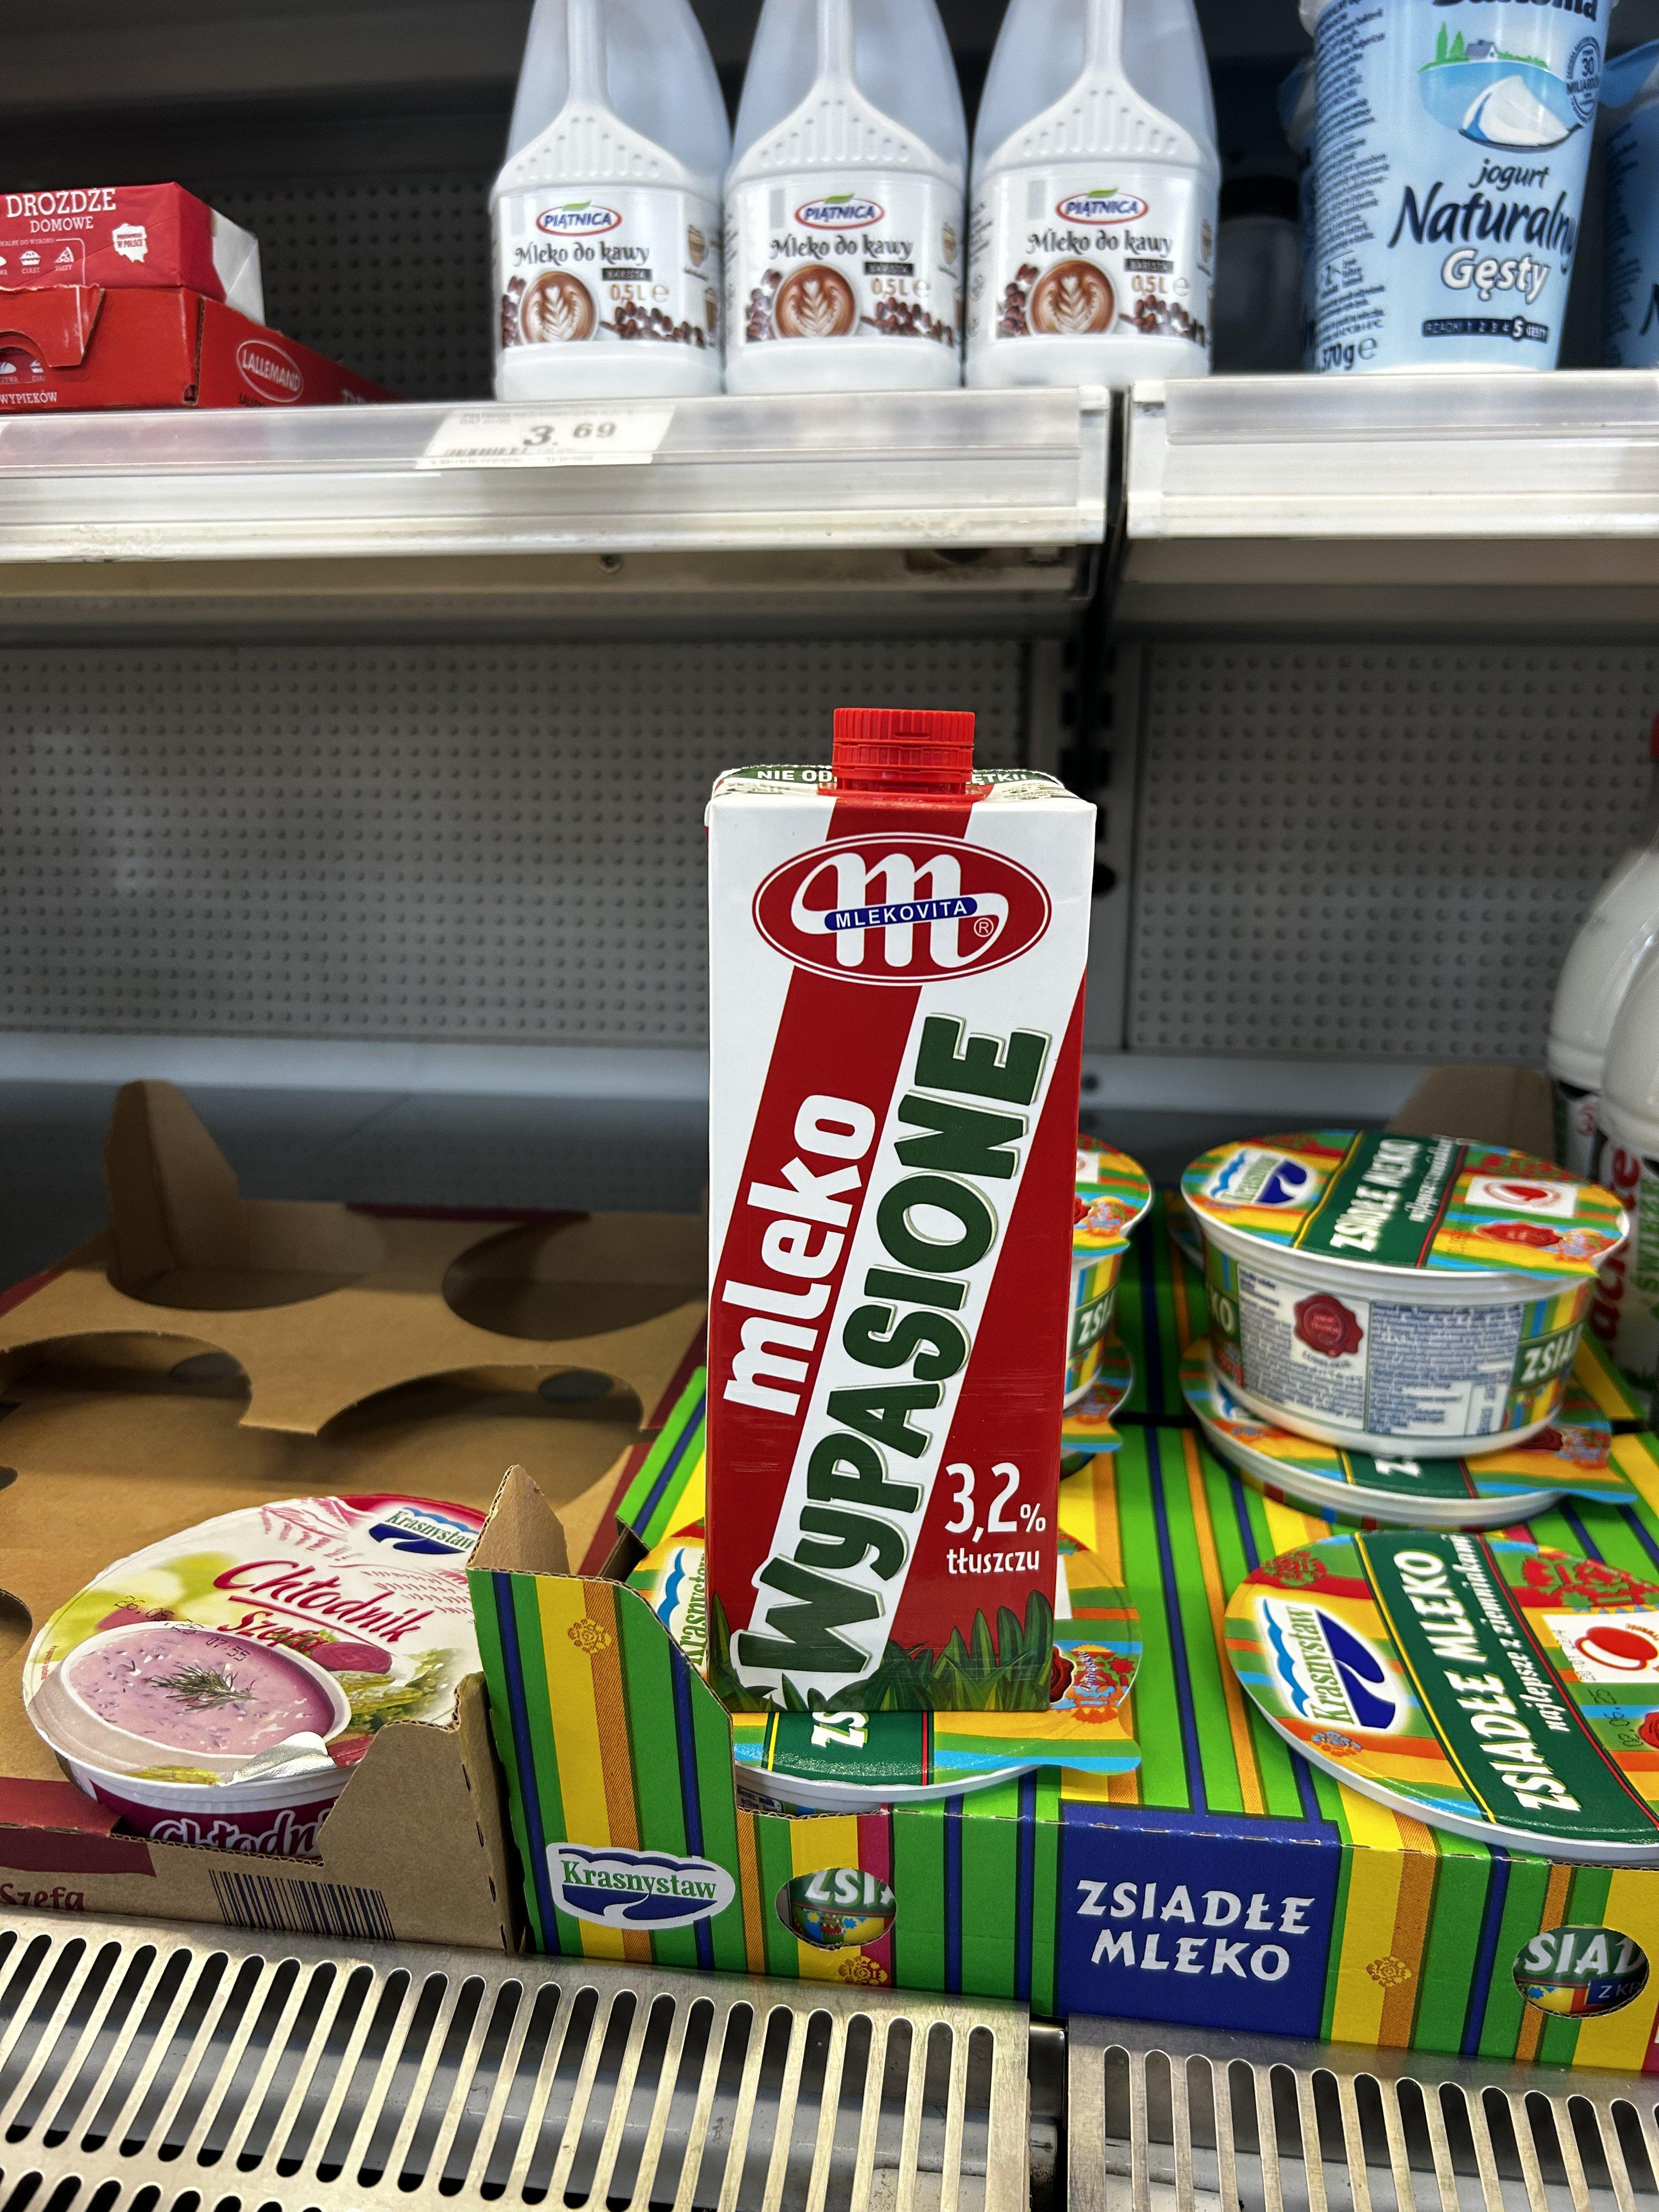Milk: (687, 676, 1072, 1731)
